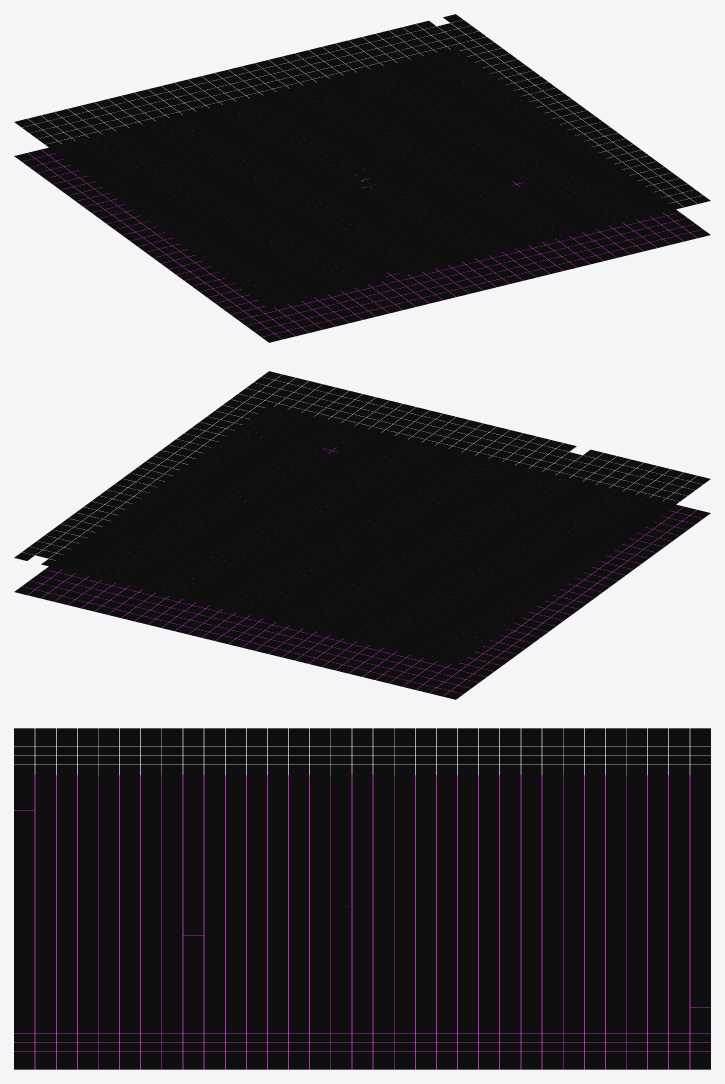
Rendered from aestetic.glb.
3 renders of one model, top to bottom at view 1: azimuth 30°, elevation 25°; view 2: azimuth 150°, elevation 25°; view 3: azimuth 270°, elevation 25°, orthographic. The views are drawn at different scales.
Parts seen in each view (by area): view 1: Plane.001, Plane; view 2: Plane.001, Plane; view 3: Plane.001, Plane.
Boxes of the visible parts, x1,y1,x2,y2 form: Plane.001: (14, 14, 710, 308); Plane: (14, 50, 710, 342); Plane.001: (14, 371, 710, 665); Plane: (14, 407, 710, 699); Plane.001: (14, 728, 710, 1022); Plane: (14, 775, 710, 1069).
Bounding box in the file's own units: 93.84 × 6.93 × 93.84.
